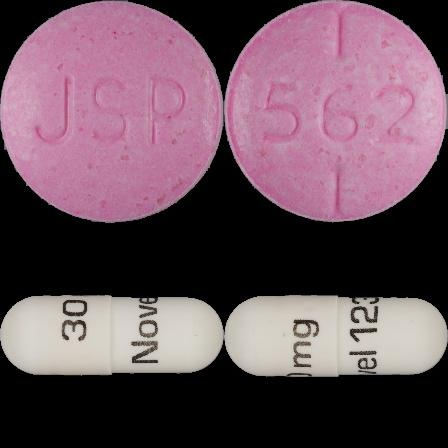63187-496: (0, 0, 224, 224)
